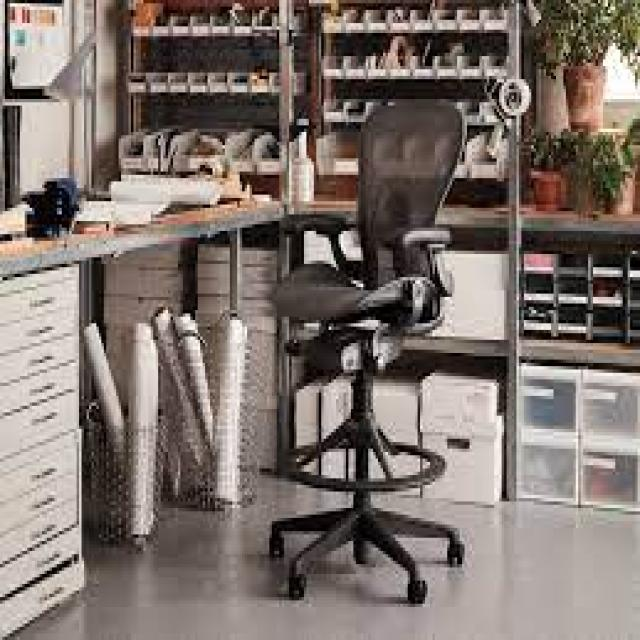chair: (197, 80, 516, 640)
